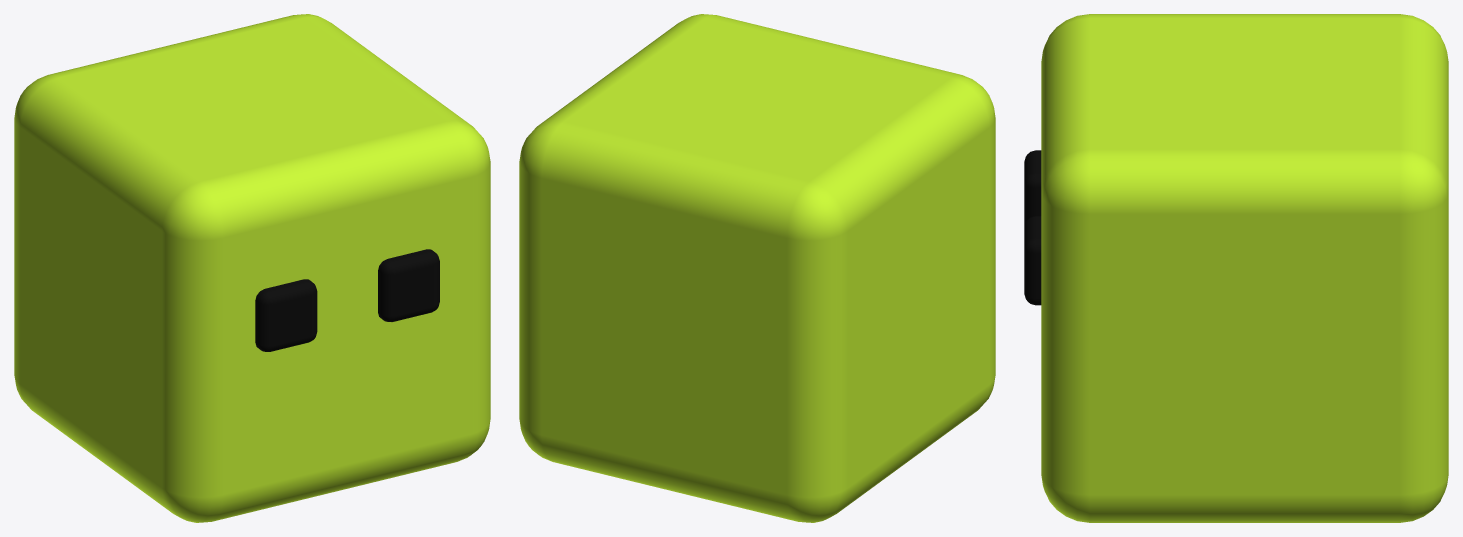
The model's file is pix.glb.
The picture shows the model from 3 angles, left to right: view 1: azimuth 30°, elevation 25°; view 2: azimuth 150°, elevation 25°; view 3: azimuth 270°, elevation 25°; orthographic projection. The views are drawn at different scales.
Visible parts, largest first — view 1: Pix_cuerpo, Pix_ojo_0, Pix_ojo_1; view 2: Pix_cuerpo; view 3: Pix_cuerpo, Pix_ojo_1, Pix_ojo_0.
Boxes of the visible parts, left/top/right/bottom form: Pix_cuerpo: left=14, top=14, right=490, bottom=522; Pix_ojo_0: left=255, top=279, right=317, bottom=351; Pix_ojo_1: left=378, top=249, right=439, bottom=321; Pix_cuerpo: left=519, top=14, right=995, bottom=522; Pix_cuerpo: left=1041, top=14, right=1448, bottom=522; Pix_ojo_1: left=1024, top=215, right=1041, bottom=305; Pix_ojo_0: left=1024, top=150, right=1041, bottom=226.
Bounding box in the file's own units: 0.3 × 0.3 × 0.3125.
